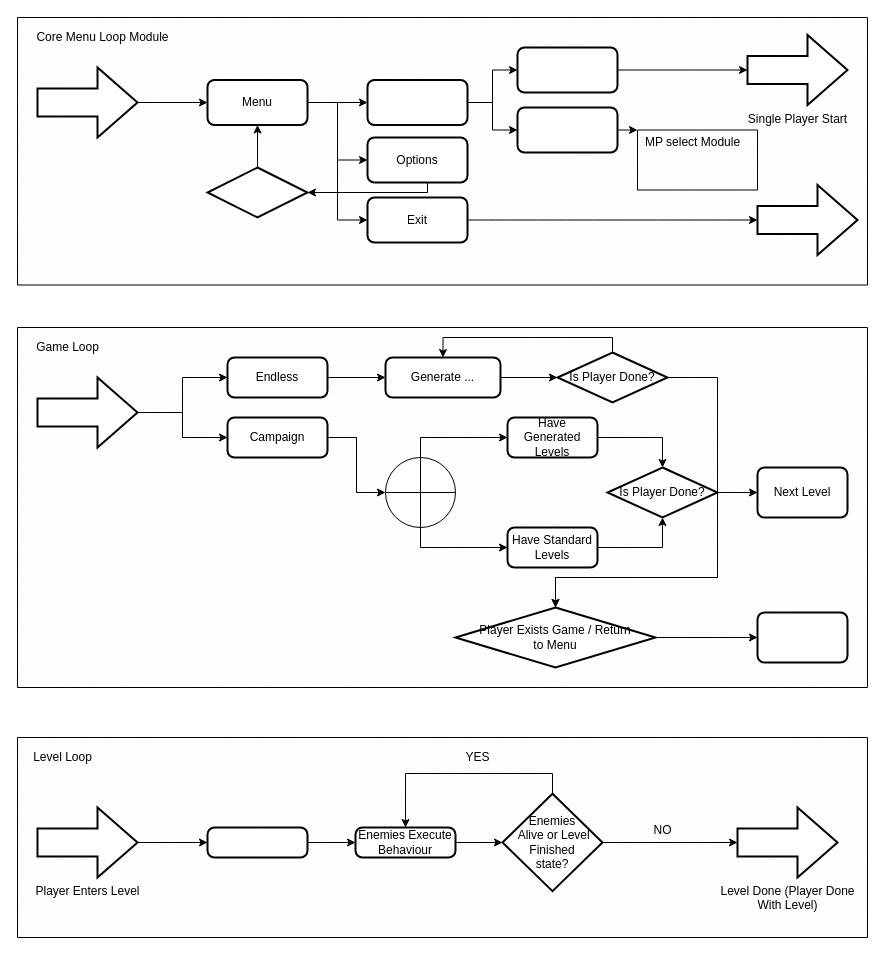
Some shapes in this 885 by 955 pixel diagram are drawn without their labels. The shapes that lost their labels are listed below. From the top down, each one's centre as x and y in pixels, then its label:
the point at 567,69: SP
the point at 87,102: Game Opens
the point at 417,102: Start Game
the point at 567,129: MP
the point at 257,192: Save Opt?
the point at 807,220: Close App
the point at 87,412: Single Player
the point at 802,637: Back To Menu
the point at 257,842: Enemies Spawn
